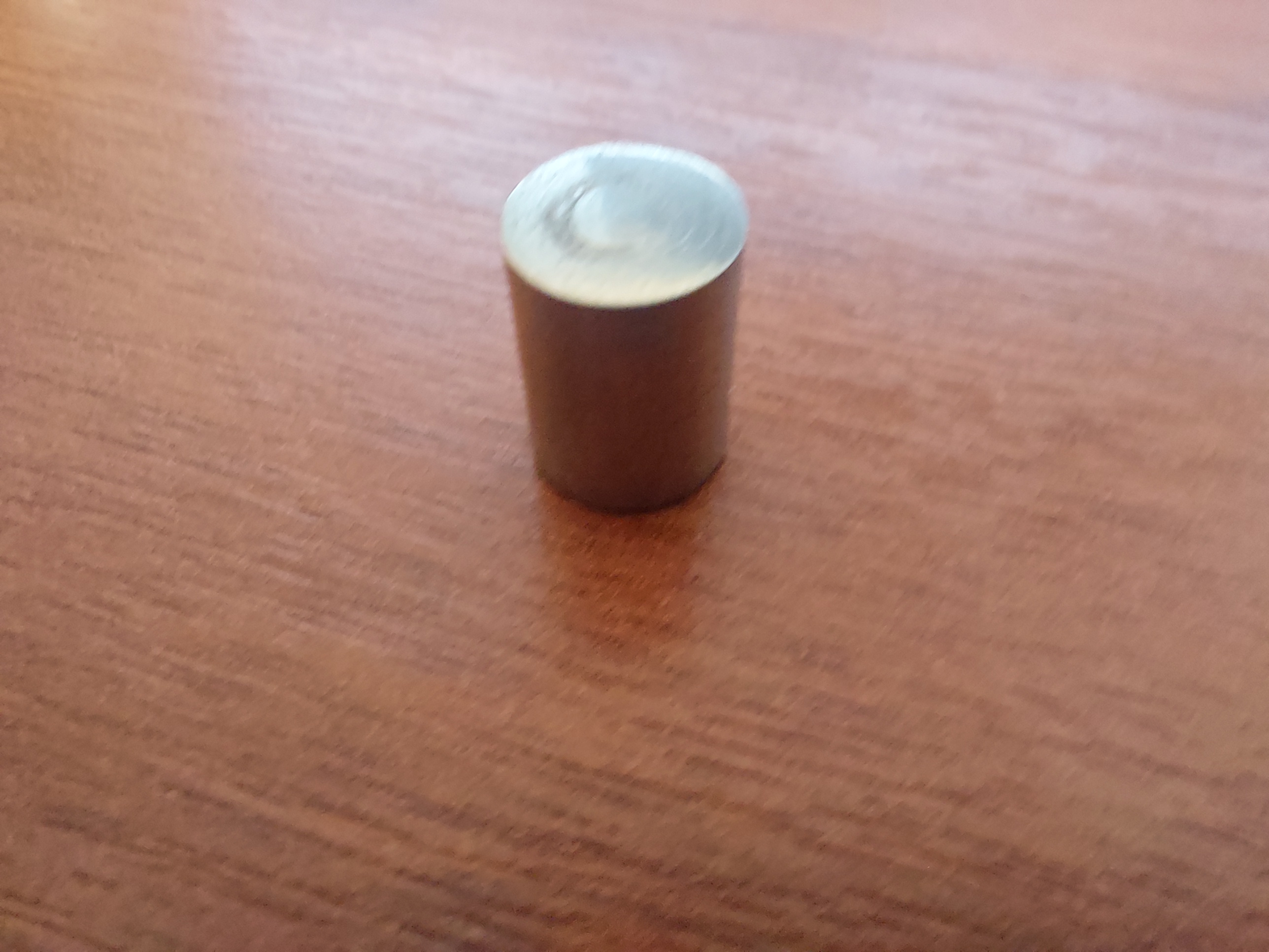tablet: (464, 135, 793, 526)
